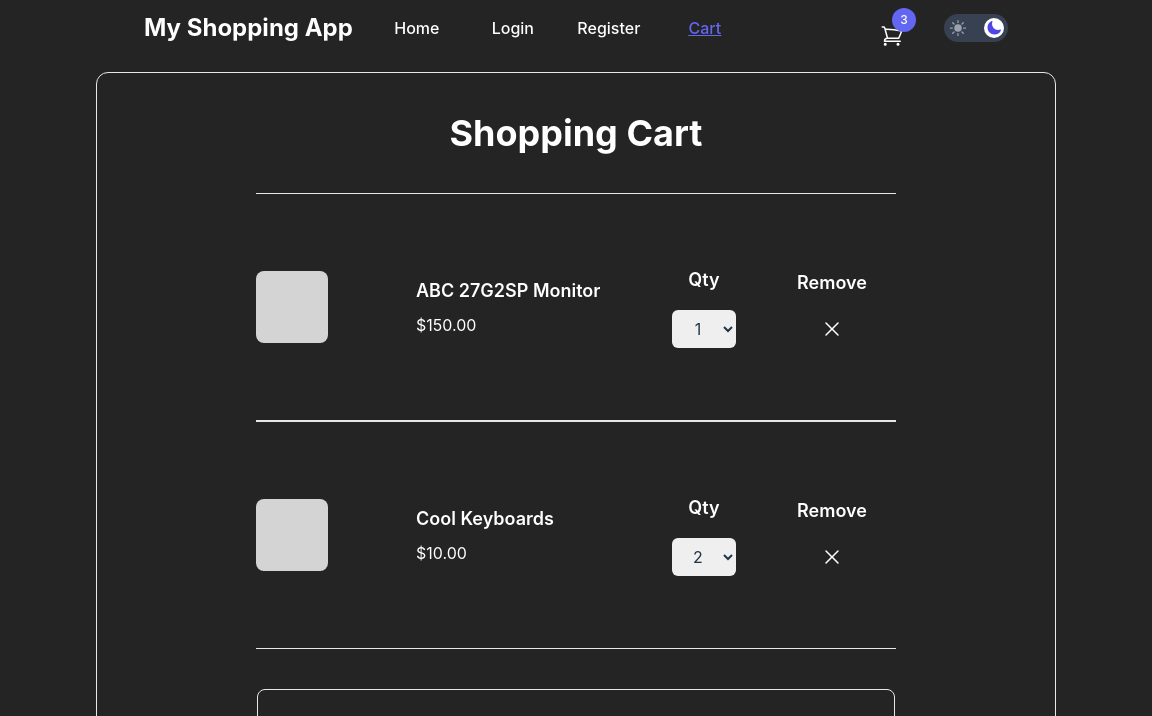
should be able to remove an item › should be able to remove item ABC 27G2SP Monitor while keeping the other item
Expected: the heading "ABC 27G2SP Monitor" is shown, [416,277,600,305]
Expected: the text "$150.00" is shown, [416,313,476,337]
What coordinates should you click on to do the following:
click the button named "Remove Item ABC 27G2SP Monitor"
I would click on:
 (832, 329)
Its box is [816,313,848,345].
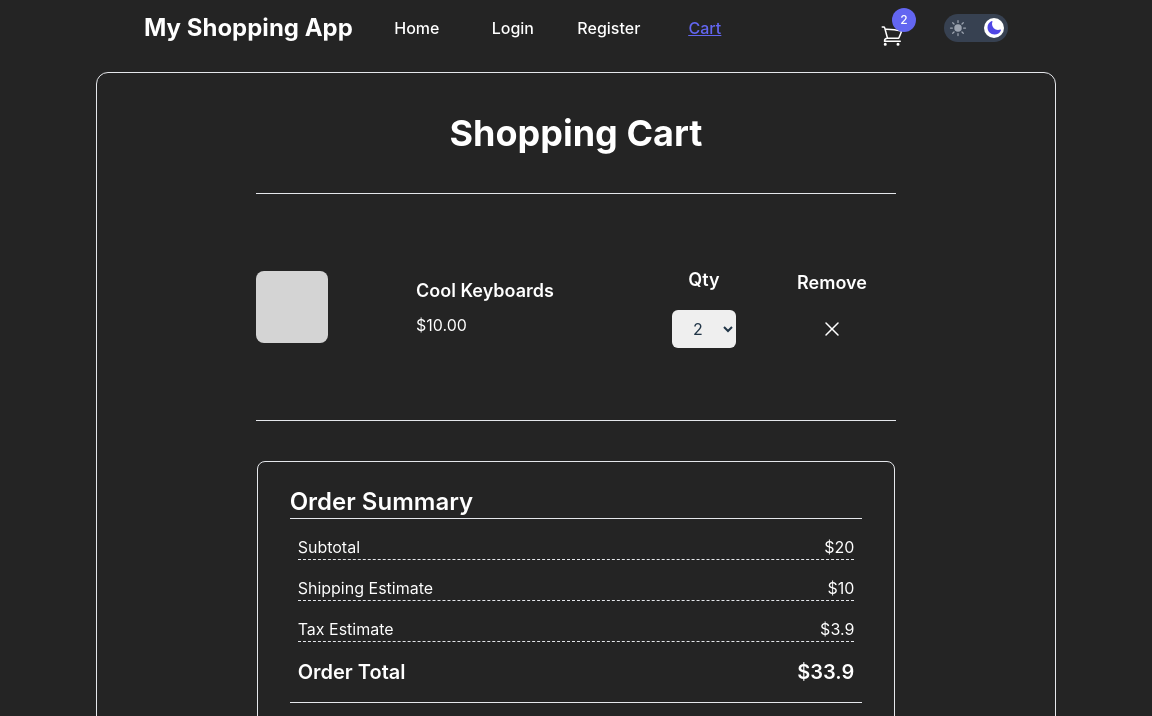
Expected: the heading "Cool Keyboards" is shown, [416,277,554,305]
Expected: the heading "ABC 27G2SP Monitor" is gone
Expected: the text "$150.00" is gone
